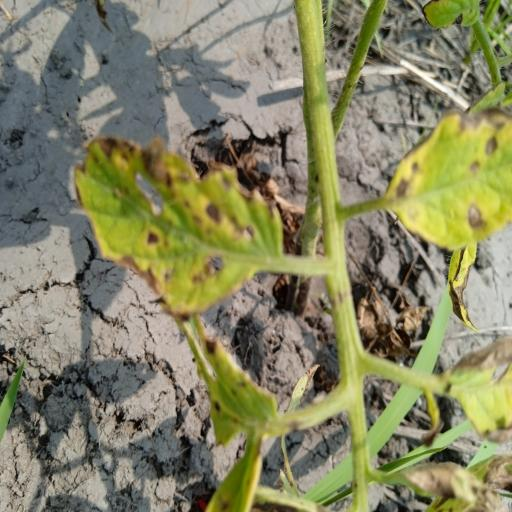Tomato_Brown_Spots: (71, 130, 291, 322), (382, 107, 512, 256)
